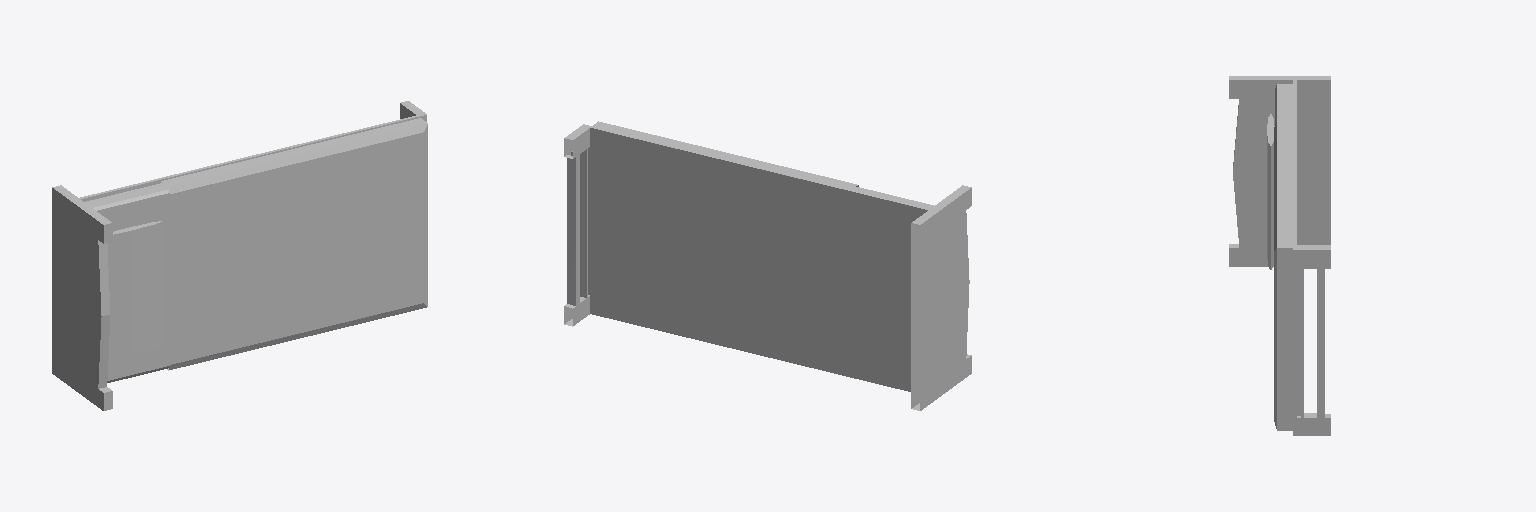
File: Bed.obj
3 views of the same model, side by side, from view 1: azimuth 30°, elevation 25°; view 2: azimuth 150°, elevation 25°; view 3: azimuth 270°, elevation 25° (orthographic).
Parts seen in each view (by area): view 1: Cube; view 2: Cube; view 3: Cube.
Part boxes in pixels (left/top/right/bottom): Cube: left=52, top=101, right=427, bottom=410; Cube: left=564, top=121, right=971, bottom=410; Cube: left=1229, top=76, right=1330, bottom=435.
Size of the model in its own units: 2 by 1 by 0.5.